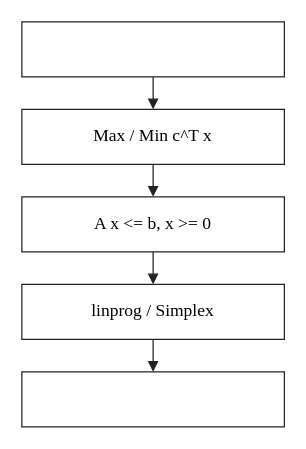
This 306x449 diagram has some shape labels left out. Here are the shapes that lost their labels. From the top down, the centre of each, then its label:
the point at 152,49: Decision Variables x
the point at 152,399: Optimal Plan
